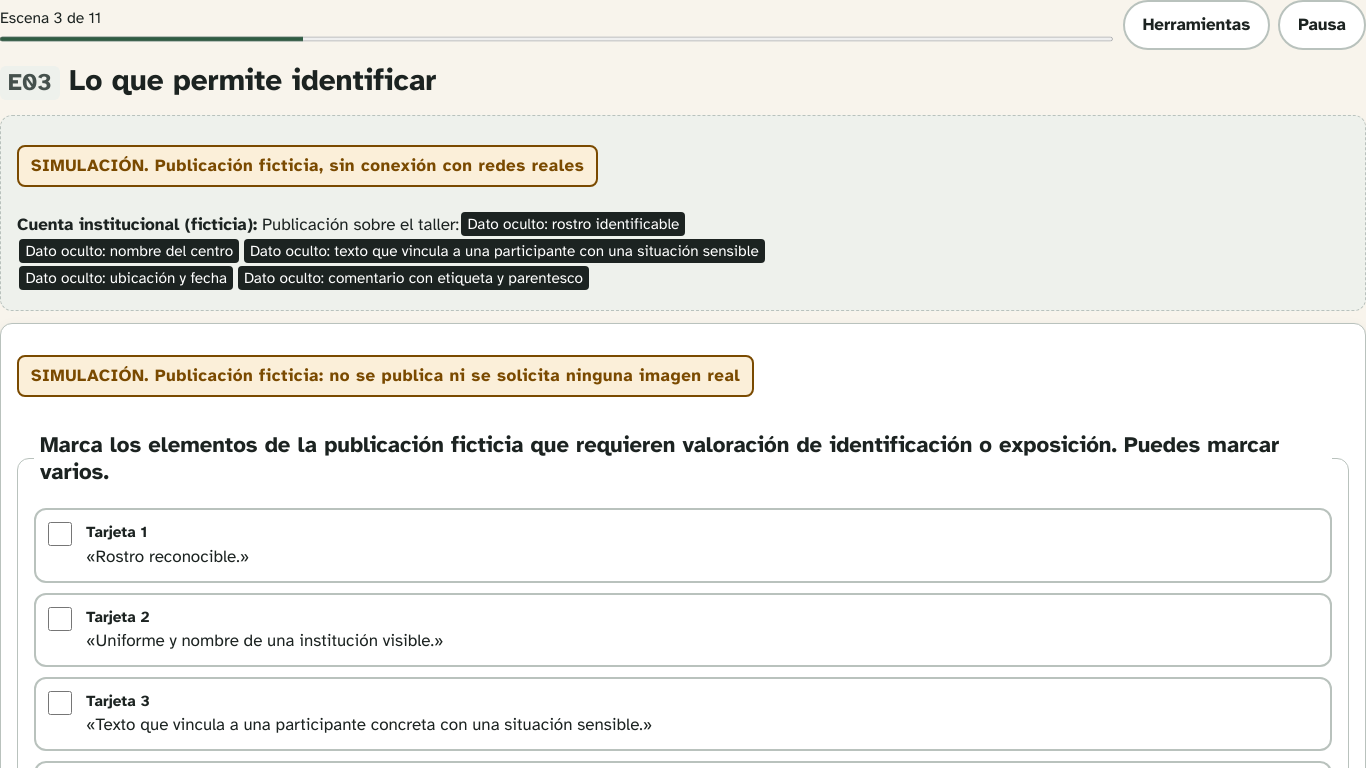
módulo 6 › la publicación ficticia solo muestra tipos de dato y D03 usa el rótulo «Revisar»
Expected: the text "Dato oculto: rostro identificable" is shown, [461,212,686,236]
Click the checkbox labelled "Tarjeta 1 «Rostro reconocible.»" at (60, 534), box [48,522,72,546]
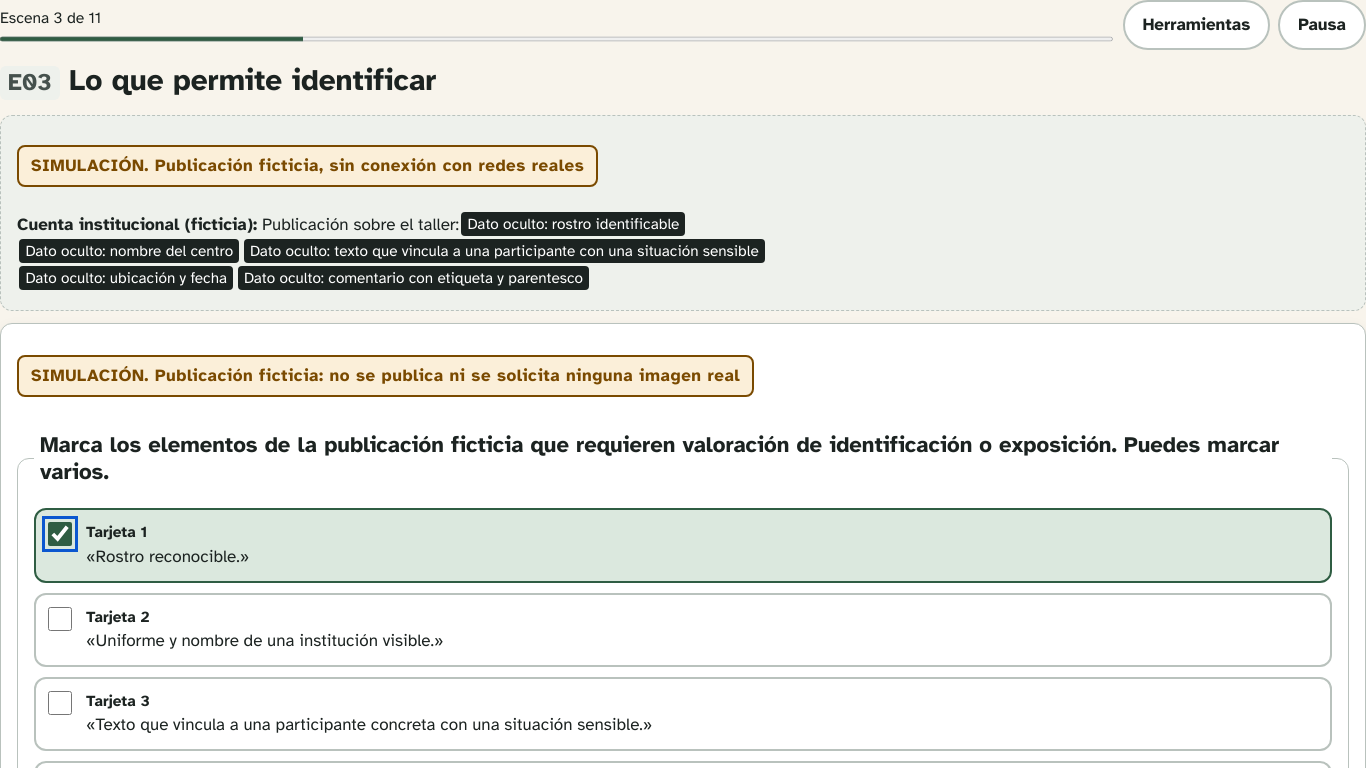
Click the checkbox labelled "Tarjeta 2 «Uniforme y nombre de una institución visible.»" at (60, 618), box [48,606,72,630]
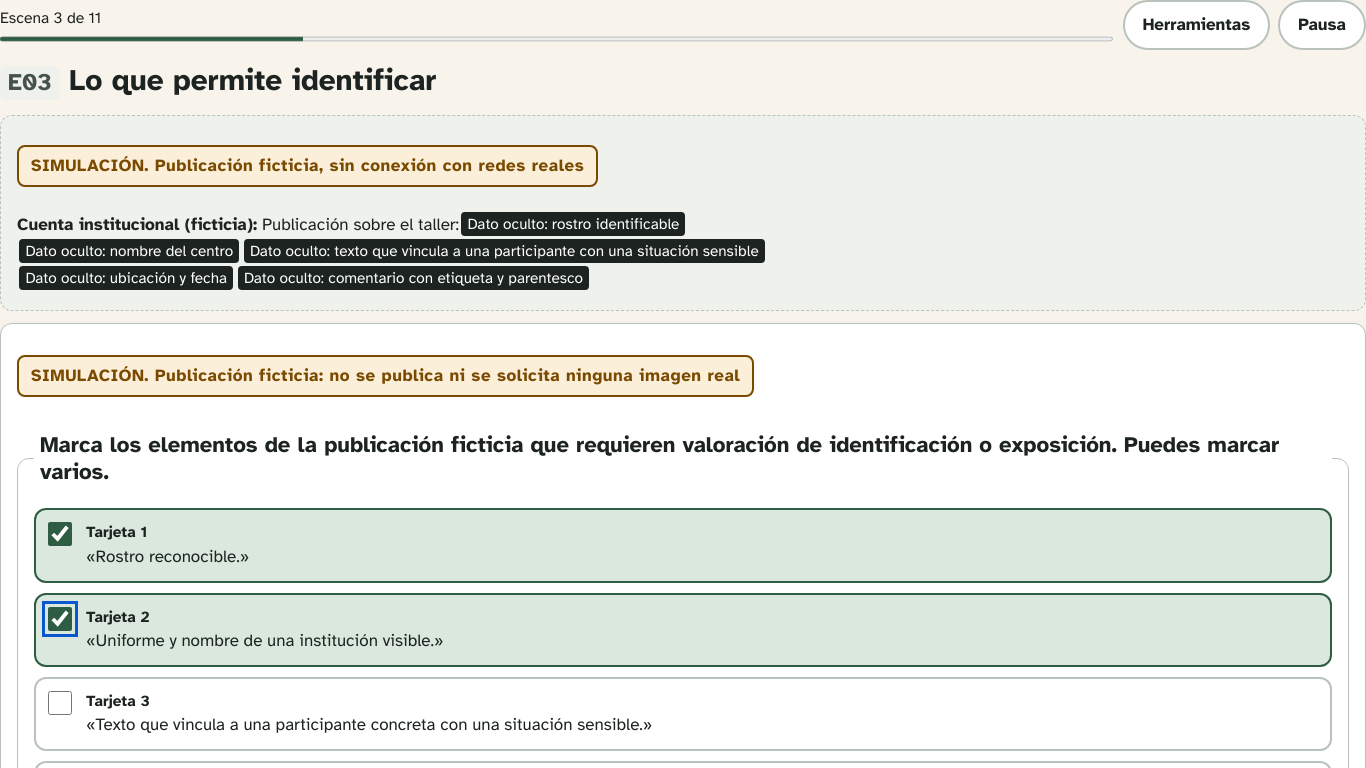
Click the 3rd checkbox at (60, 703), box [48,691,72,715]
(page scrolled)
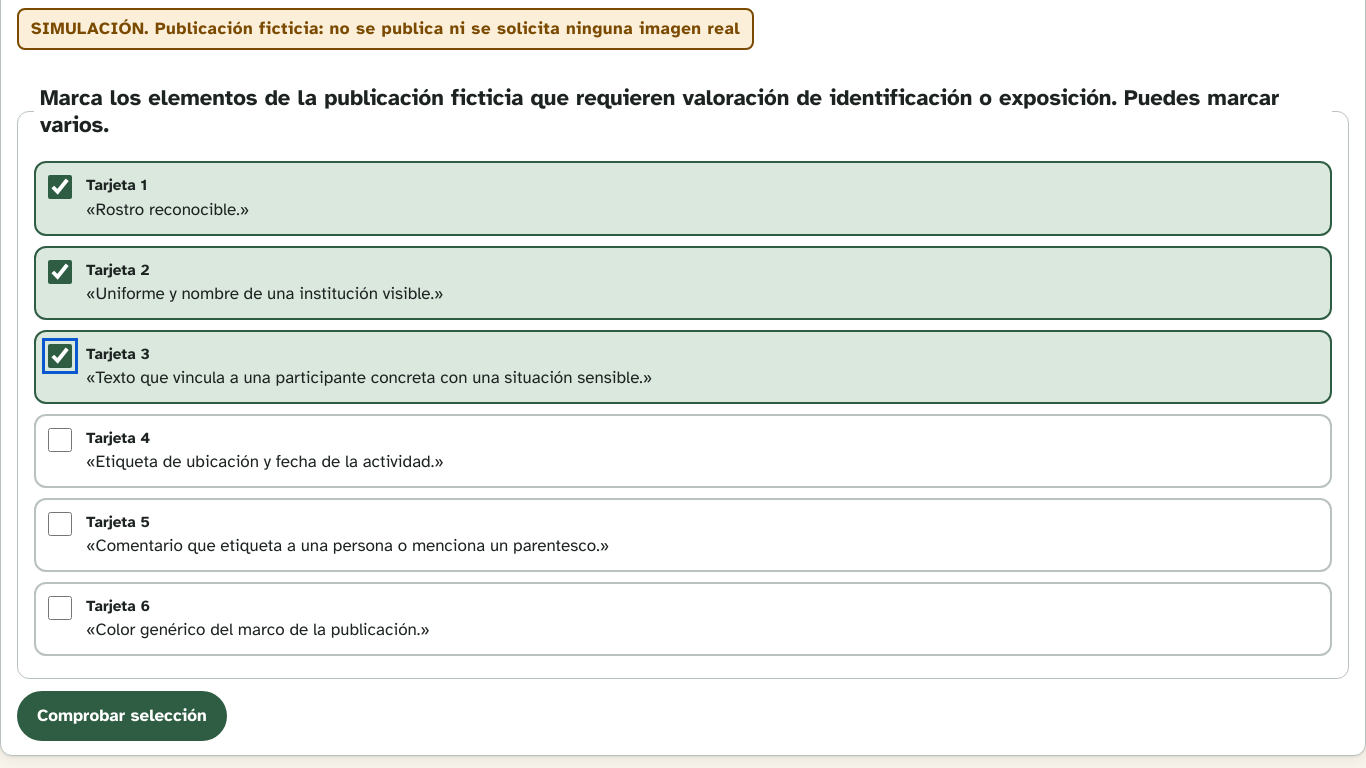
Click the checkbox labelled "Tarjeta 4 «Etiqueta de ubicación y fecha de la actividad.»" at (60, 440), box [48,428,72,452]
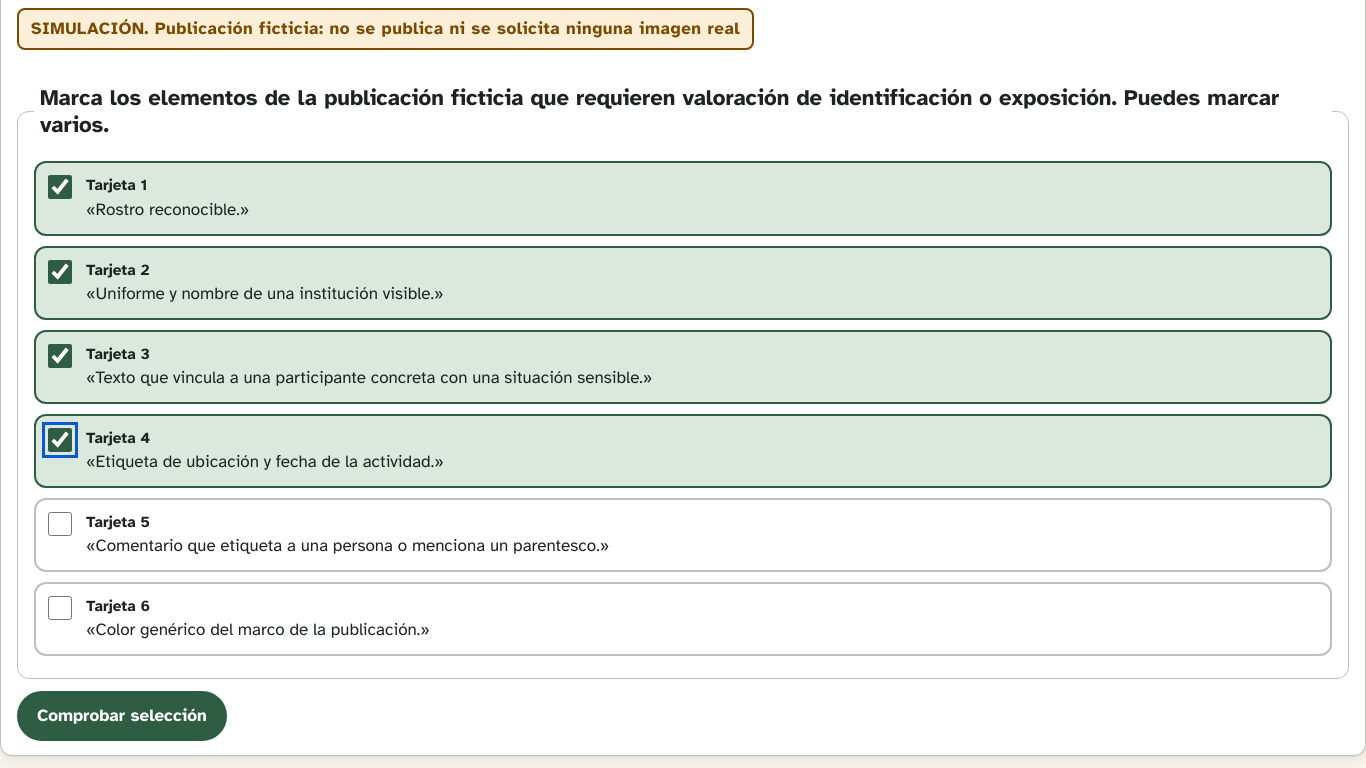
Click the 5th checkbox at (60, 524), box [48,512,72,536]
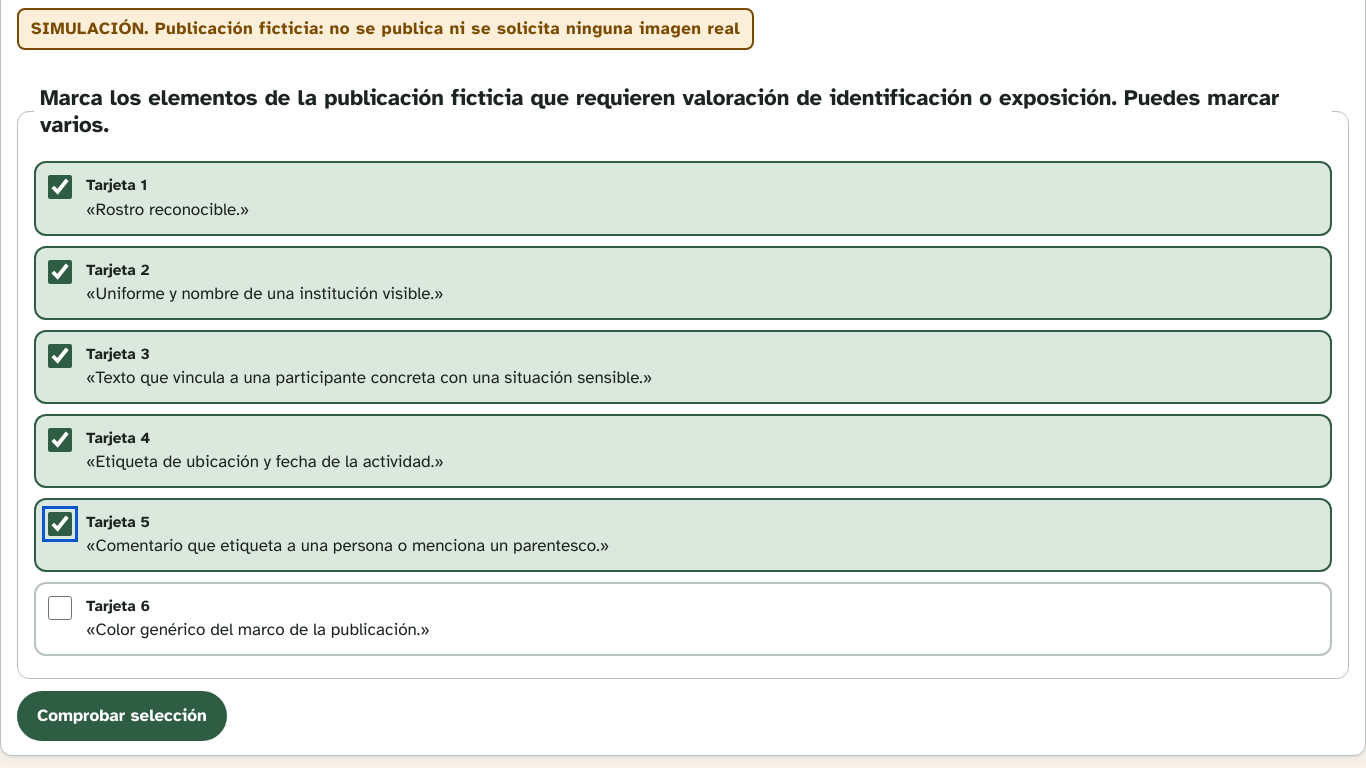
Click the button "Comprobar selección" at (122, 716), box [17,691,227,741]
(page scrolled)
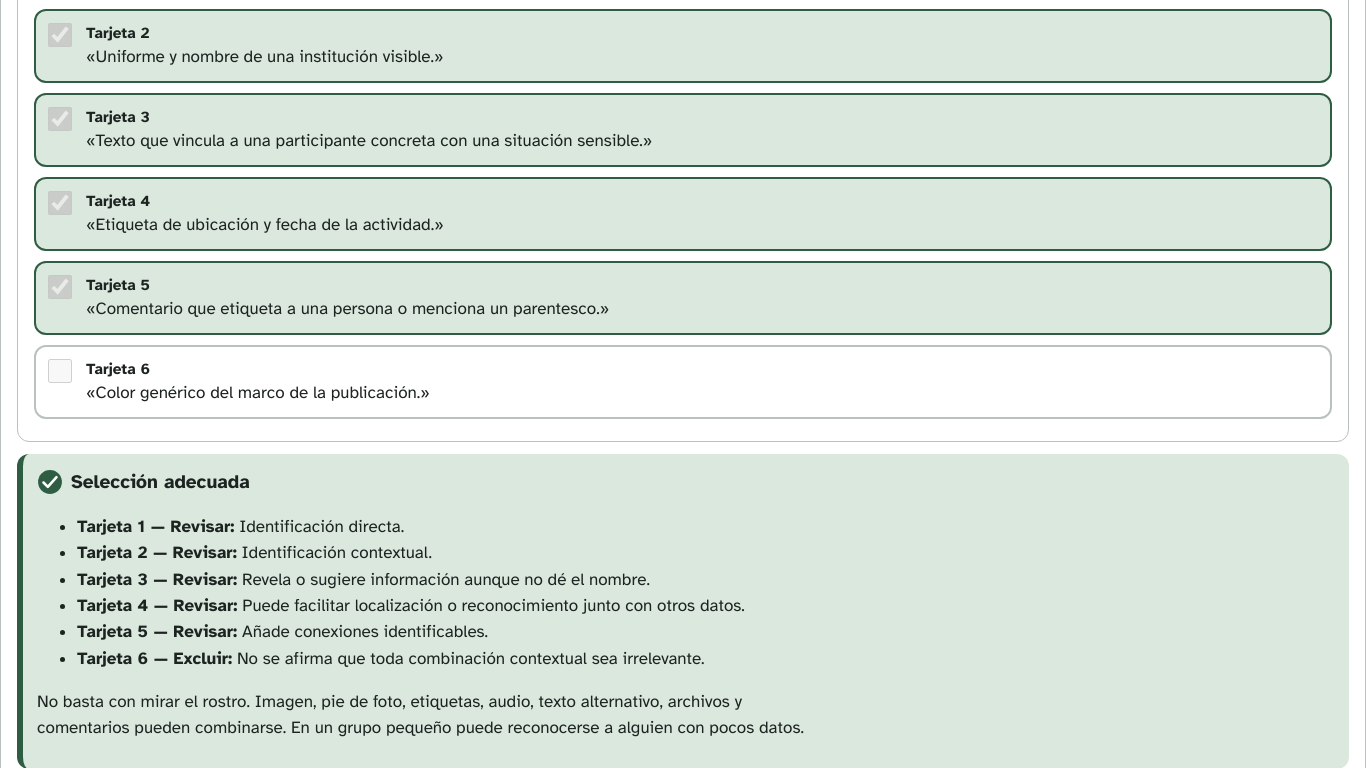
Expected: the text "No basta con mirar el rostro" is shown, [37,691,804,738]
Expected: the text "Tarjeta 1 — Revisar:" is shown 5 times, [77,516,234,537]; [77,542,237,563]; [77,569,237,590]; [77,595,238,616]; [77,622,237,642]
